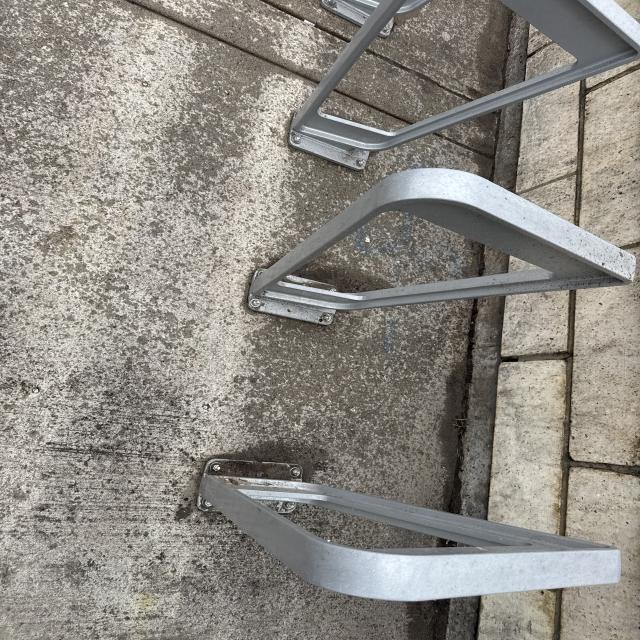Bicycle Rack: (202, 454, 622, 609), (242, 170, 631, 331), (285, 4, 638, 164)
